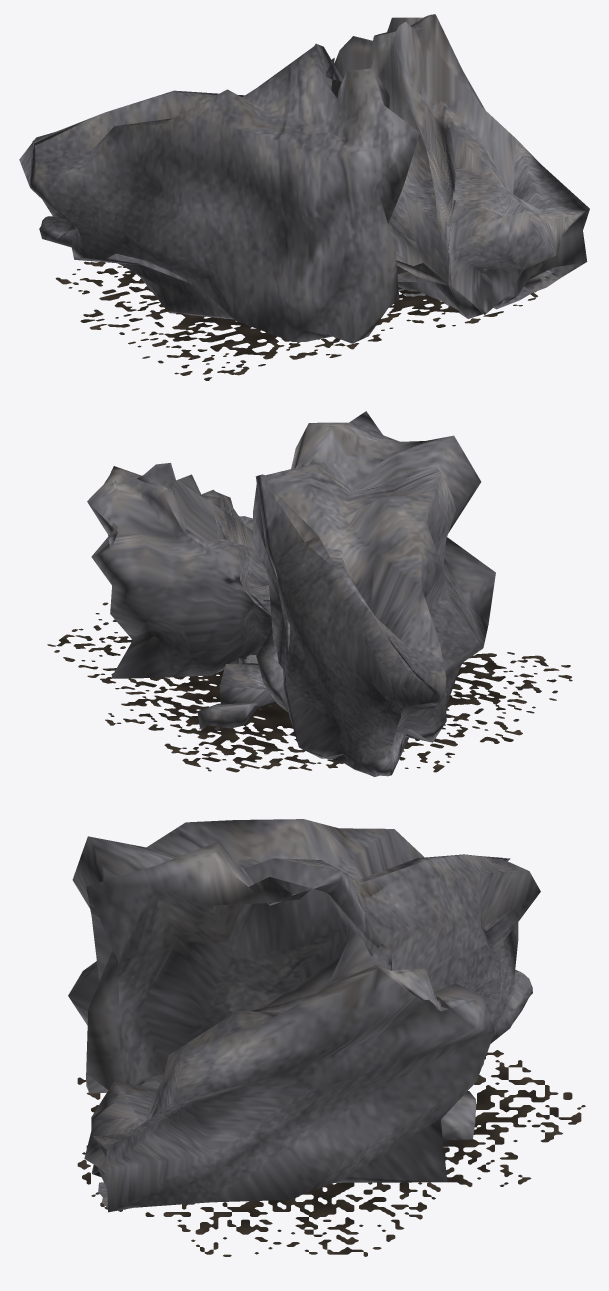
Rendered from boulder_03.glb.
3 views of the same model, one above another, from view 1: azimuth 30°, elevation 25°; view 2: azimuth 150°, elevation 25°; view 3: azimuth 270°, elevation 25° (orthographic). The views are drawn at different scales.
Visible parts, largest first — view 1: boulder_03; view 2: boulder_03; view 3: boulder_03.
Part boxes in pixels (x1,y1,x2,y2): boulder_03: (19,14,589,380); boulder_03: (47,411,572,776); boulder_03: (68,819,585,1256).
Size of the model in its own units: 2.03 by 0.8508 by 1.56.
2 materials, 2 textured.
